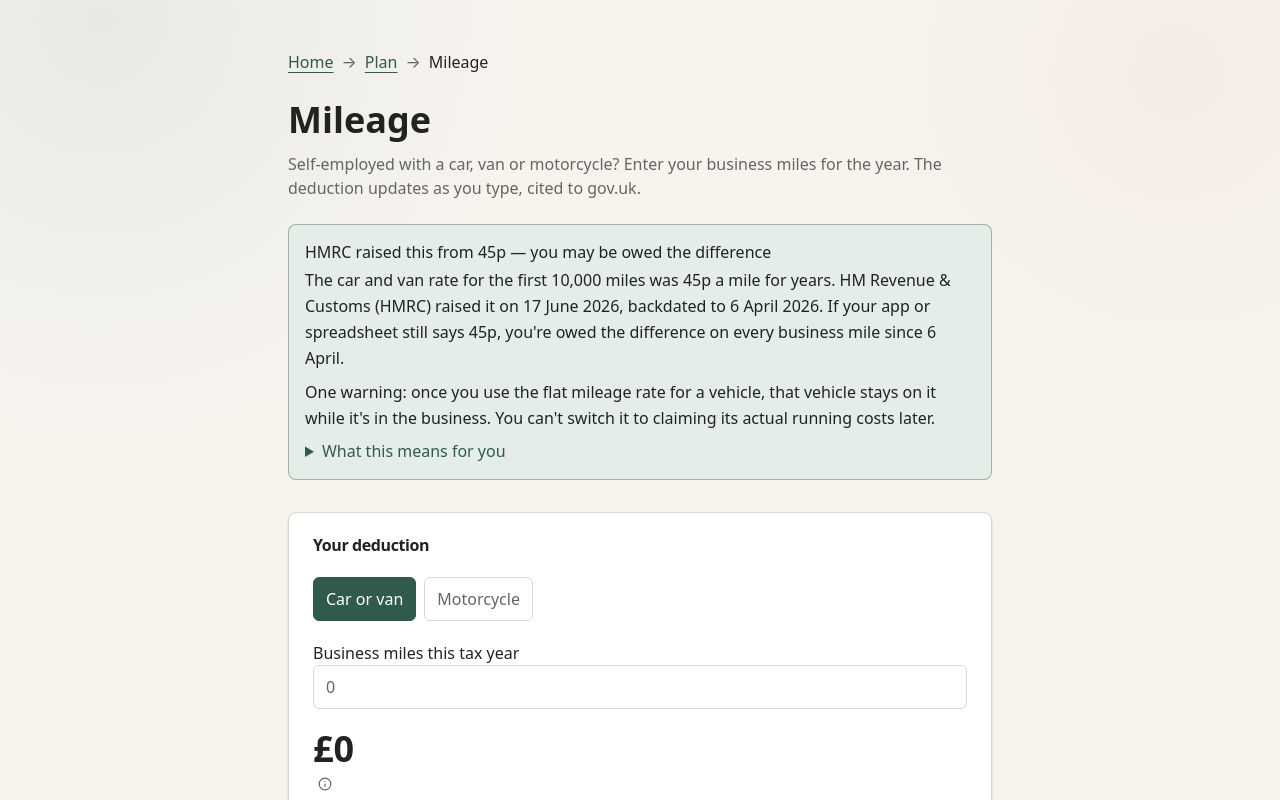
Test: mileage tool › hides the 45p rate-rise callout for motorcycles — the 24p rate never changed
This screenshot has width=1280, height=800.
Click the radio button labelled "Motorcycle": (479, 599) [424, 577, 533, 621]
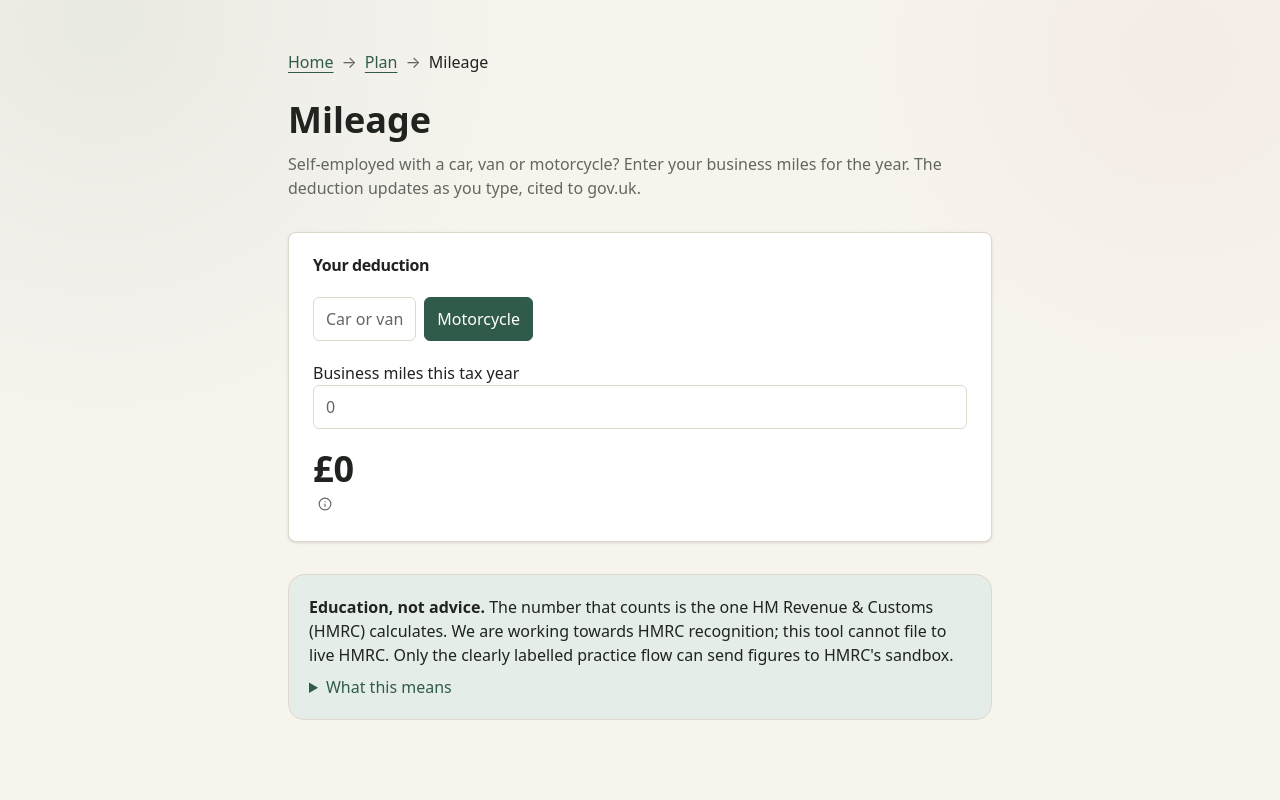
Expected: the text "was 45p" is gone
